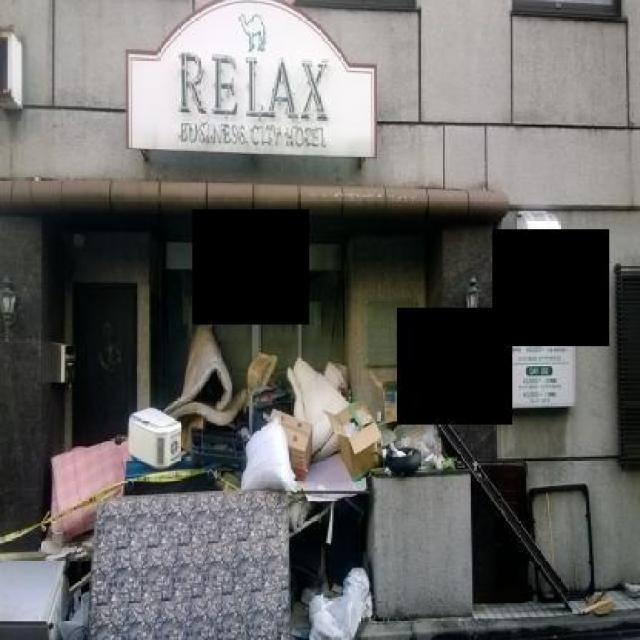plastic bag: (308, 564, 372, 638), (240, 412, 295, 494), (391, 440, 406, 454), (377, 438, 386, 456)
